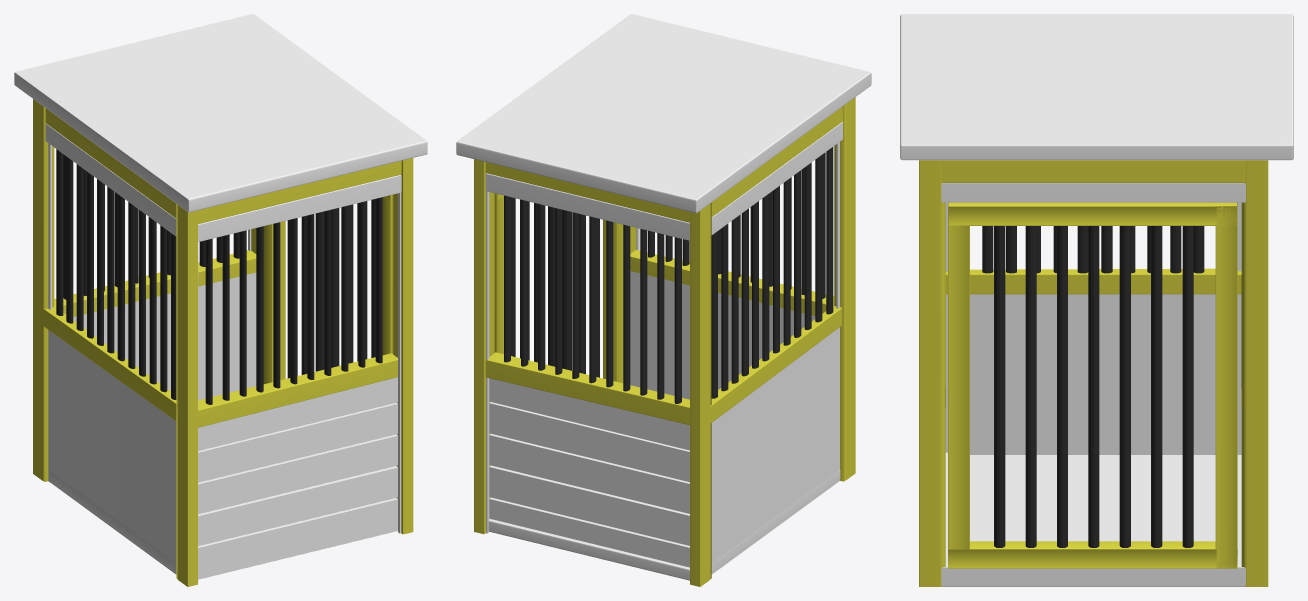
Rendered from Cage.fbx.
The picture shows the model from 3 angles, left to right: view 1: azimuth 30°, elevation 25°; view 2: azimuth 150°, elevation 25°; view 3: azimuth 270°, elevation 25°; orthographic projection. The views are drawn at different scales.
Visible parts, largest first — view 1: polySurface86, pCylinder26; view 2: polySurface86, pCylinder26; view 3: polySurface86, pCylinder26.
Boxes of the visible parts, x1,y1,x2,y2 form: polySurface86: (14,14,427,586); pCylinder26: (263,195,391,384); polySurface86: (456,14,871,586); pCylinder26: (495,193,623,383); polySurface86: (900,14,1293,586); pCylinder26: (948,202,1237,568).
Size of the model in its own units: 14.01 by 22.09 by 17.69.
